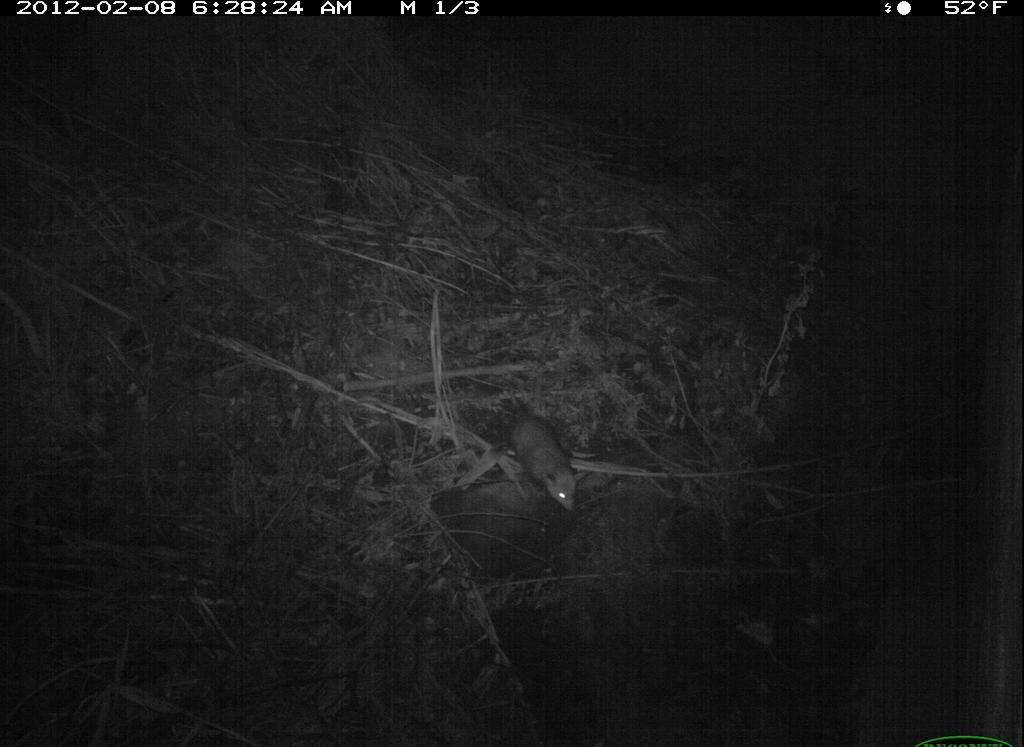opossum: (446, 379, 603, 539)
